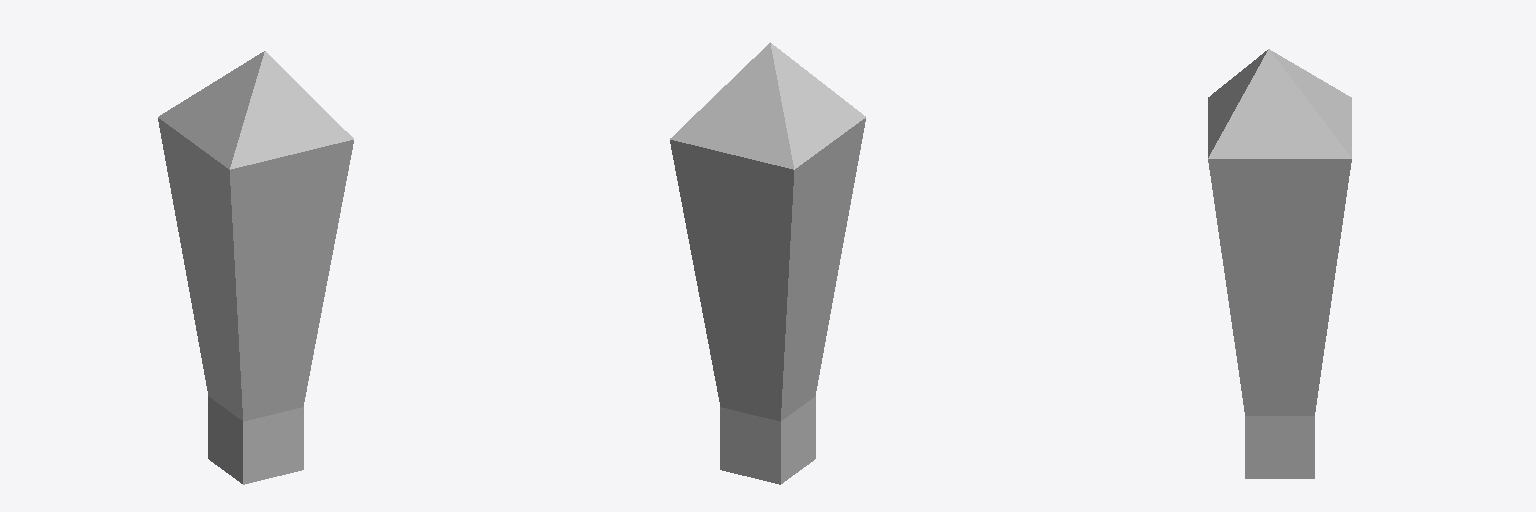
Rendered from Building5.obj.
3 renders of one model, left to right at view 1: azimuth 30°, elevation 25°; view 2: azimuth 150°, elevation 25°; view 3: azimuth 270°, elevation 25°, orthographic.
Visible parts, largest first — view 1: Cube; view 2: Cube; view 3: Cube.
Boxes of the visible parts, box(x1,y1,x2,y2) form: Cube: box(158, 51, 353, 484); Cube: box(670, 42, 865, 484); Cube: box(1208, 49, 1351, 478).
Bounding box in the file's own units: 2.58 × 8.25 × 2.58.